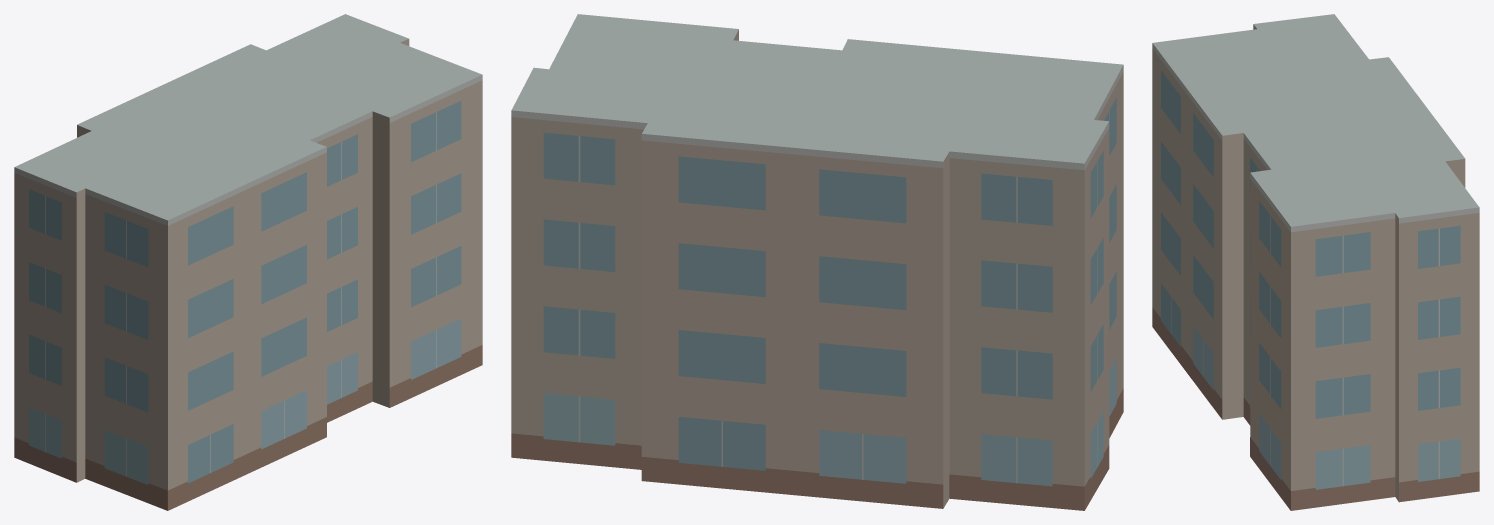
The model's file is survey-upis-32616117.glb.
3 views of the same model, side by side, from view 1: azimuth 30°, elevation 25°; view 2: azimuth 150°, elevation 25°; view 3: azimuth 270°, elevation 25° (orthographic). The views are drawn at different scales.
Visible parts, largest first — view 1: survey-upis-32616117.tmp; view 2: survey-upis-32616117.tmp; view 3: survey-upis-32616117.tmp.
Part boxes in pixels (<box>): survey-upis-32616117.tmp: <box>14,14,482,510</box>; survey-upis-32616117.tmp: <box>511,14,1123,510</box>; survey-upis-32616117.tmp: <box>1152,14,1479,510</box>.
Size of the model in its own units: 20.59 by 12.8 by 13.37.
